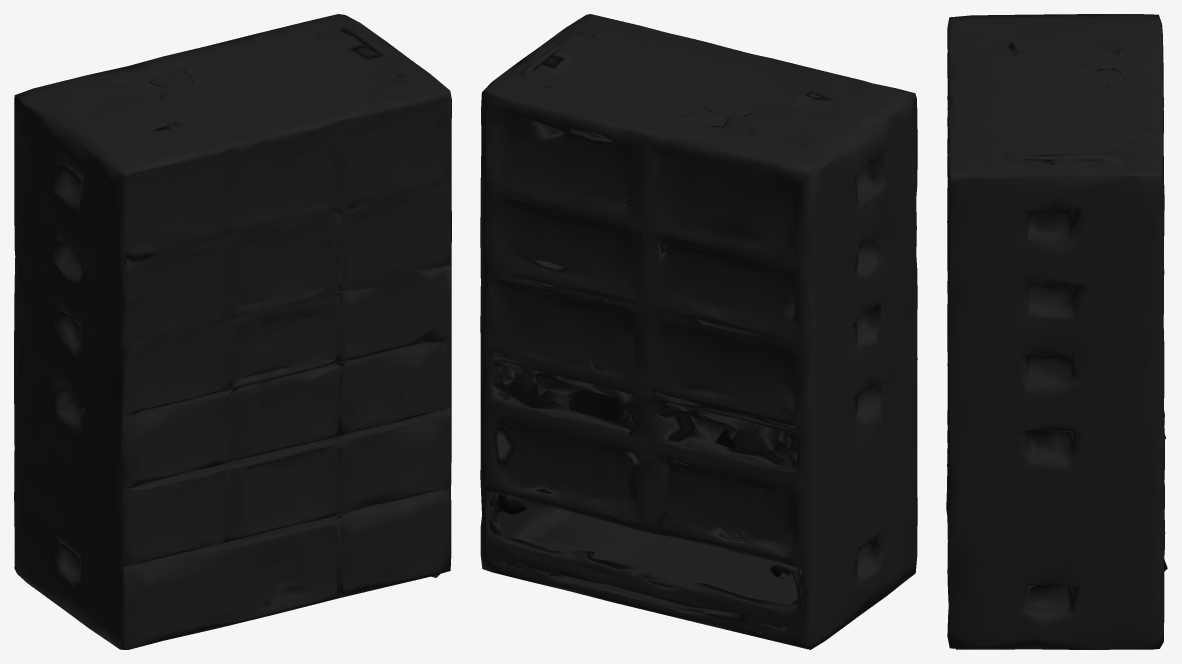
Rendered from line-array-s2.lo.glb.
3 renders of one model, left to right at view 1: azimuth 30°, elevation 25°; view 2: azimuth 150°, elevation 25°; view 3: azimuth 270°, elevation 25°, orthographic.
Parts seen in each view (by area): view 1: geometry_0; view 2: geometry_0; view 3: geometry_0.
Boxes of the visible parts, x1,y1,x2,y2 form: geometry_0: [14, 14, 451, 649]; geometry_0: [480, 14, 917, 649]; geometry_0: [946, 14, 1167, 649].
Size of the model in its own units: 0.712 by 0.9995 by 0.4083.
Materials: 1 (1 with a texture image).
